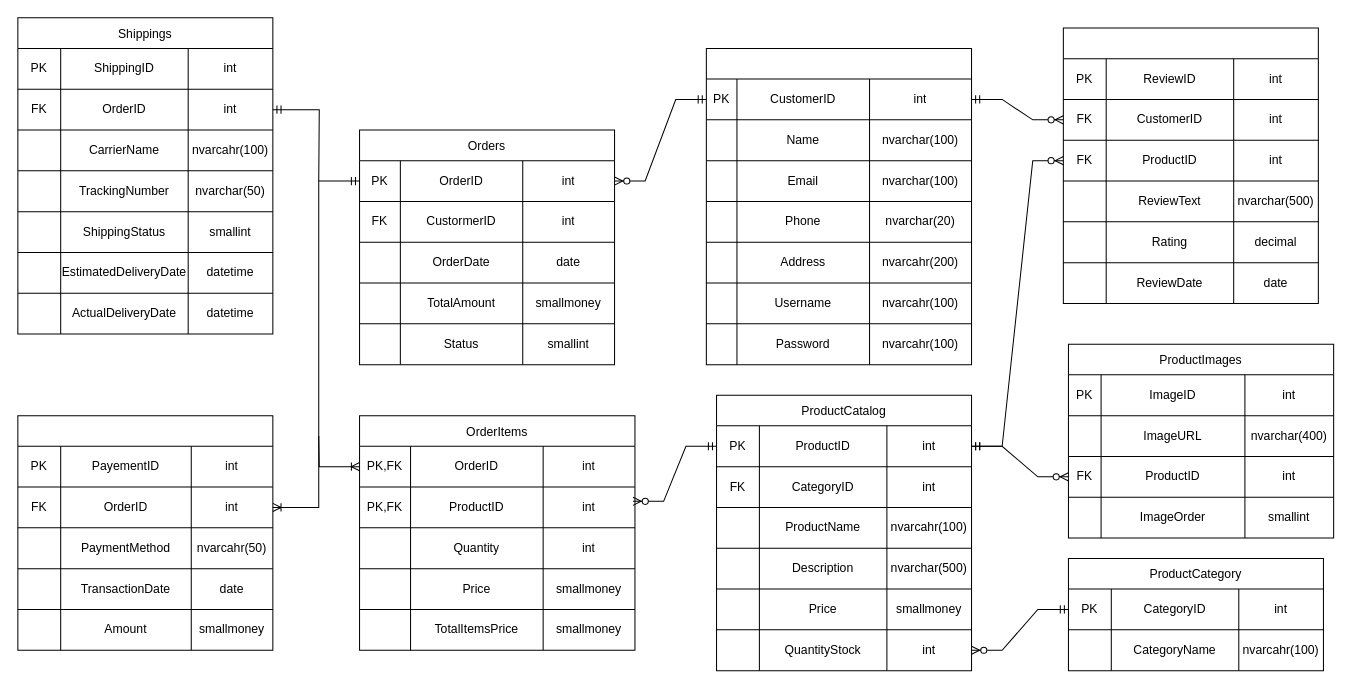
This 1352x689 diagram has some shape labels left out. Each missing label, with the box of its shape:
Customers: (705, 47, 972, 365)
Payemnts: (17, 415, 273, 650)
Reviews: (1062, 27, 1318, 303)
